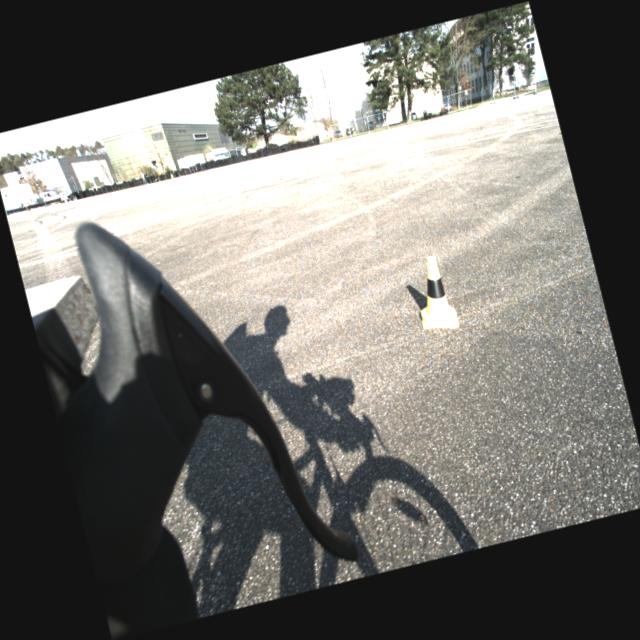yellow_cone: (407, 253, 459, 335)
